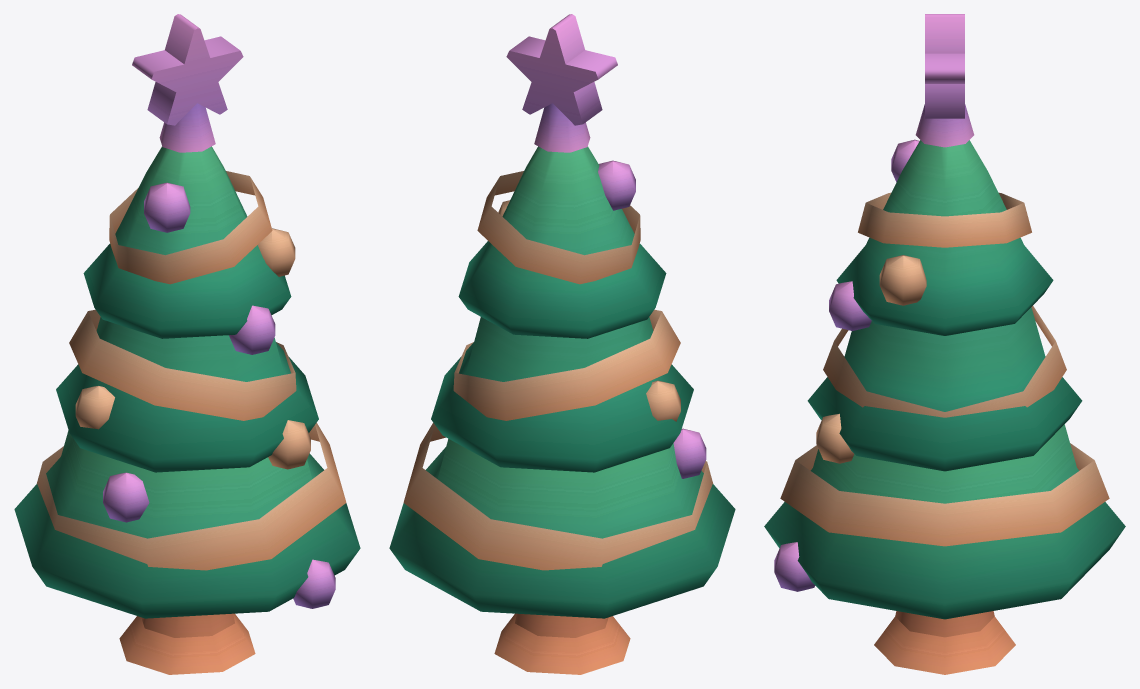
Rendered from julgran.glb.
The picture shows the model from 3 angles, left to right: view 1: azimuth 30°, elevation 25°; view 2: azimuth 150°, elevation 25°; view 3: azimuth 270°, elevation 25°; orthographic projection.
Parts seen in each view (by area): view 1: tree-decorated; view 2: tree-decorated; view 3: tree-decorated.
Part boxes in pixels (left/top/right/bottom): tree-decorated: left=14, top=14, right=360, bottom=674; tree-decorated: left=389, top=14, right=735, bottom=674; tree-decorated: left=764, top=14, right=1125, bottom=674.
Bounding box in the file's own units: 1.19 × 2.29 × 1.19.
1 material, 1 textured.
